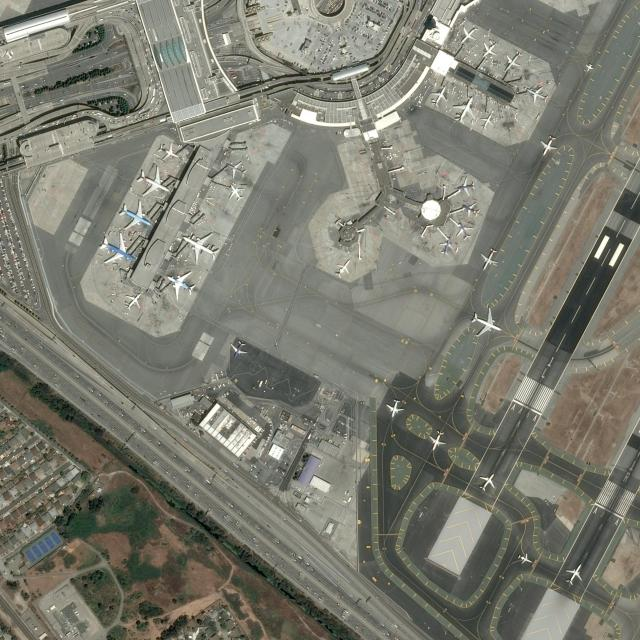aircraft: (180, 230, 220, 264), (98, 230, 136, 264), (117, 197, 153, 230), (134, 166, 170, 196), (470, 305, 502, 337), (164, 270, 196, 300), (452, 93, 476, 124), (564, 560, 584, 586), (156, 138, 179, 160), (454, 174, 476, 197), (478, 246, 498, 270), (428, 84, 448, 108), (384, 396, 404, 419), (526, 84, 549, 104), (538, 134, 558, 156), (476, 470, 496, 492), (504, 49, 522, 72), (122, 290, 142, 310), (228, 339, 248, 359), (458, 24, 478, 44), (226, 182, 245, 202), (333, 258, 352, 278), (455, 219, 473, 240), (226, 160, 246, 178), (428, 428, 444, 450), (461, 201, 480, 218), (479, 110, 495, 130), (438, 235, 454, 255), (482, 39, 497, 58), (516, 550, 532, 564), (585, 62, 594, 72)
